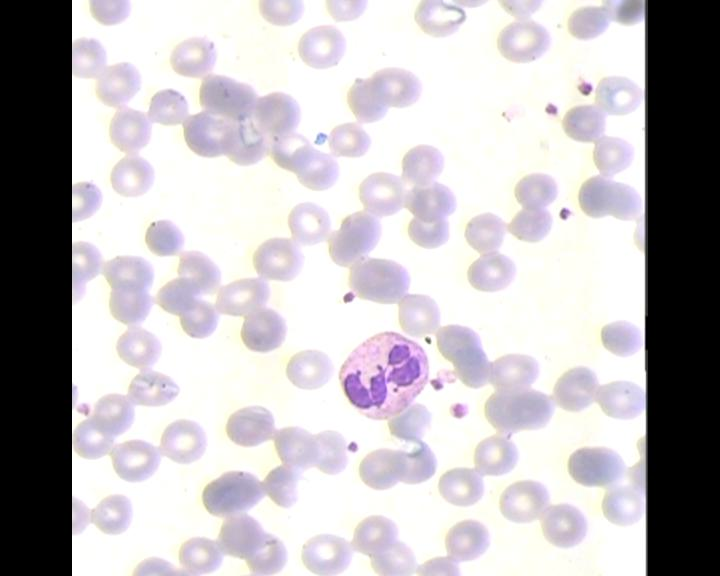neut: (334, 327, 430, 420)
